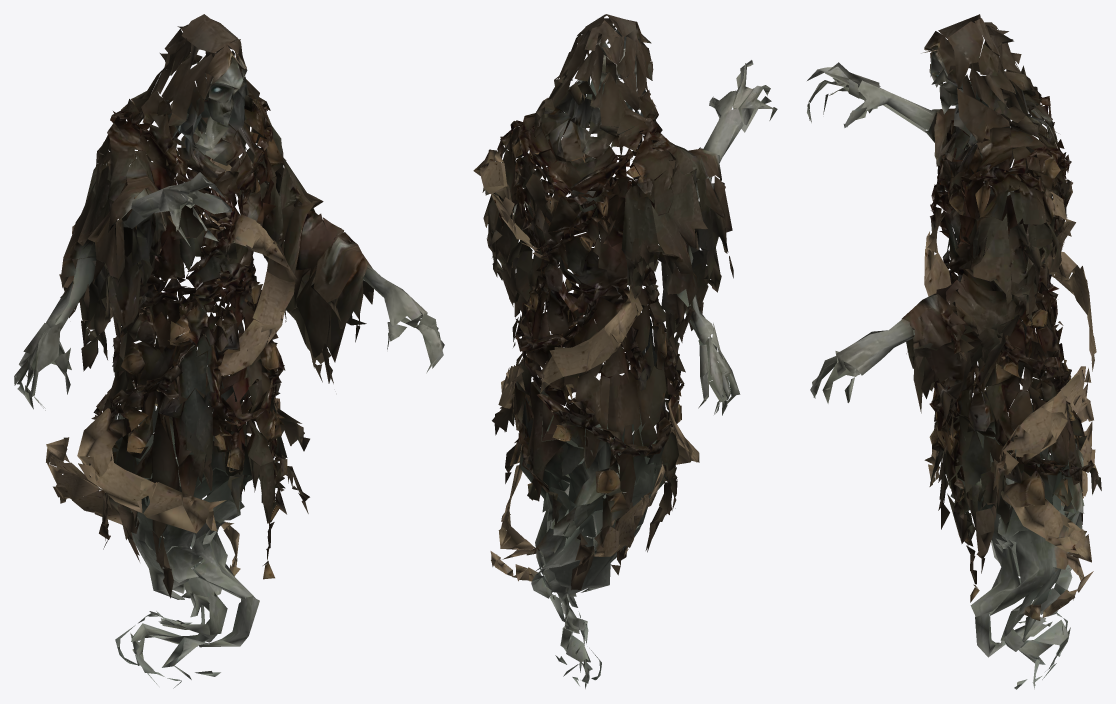
File: DebtWraith.fbx
3 views of the same model, side by side, from view 1: azimuth 30°, elevation 25°; view 2: azimuth 150°, elevation 25°; view 3: azimuth 270°, elevation 25° (orthographic). The views are drawn at different scales.
Visible parts, largest first — view 1: DebtWraith_Body; view 2: DebtWraith_Body; view 3: DebtWraith_Body.
Part boxes in pixels (x1=…): DebtWraith_Body: x1=14, y1=14, x2=444, y2=688; DebtWraith_Body: x1=473, y1=14, x2=777, y2=688; DebtWraith_Body: x1=807, y1=14, x2=1101, y2=689.
Size of the model in its own units: 0.9151 by 1.87 by 0.745.
1 material, 1 textured.
